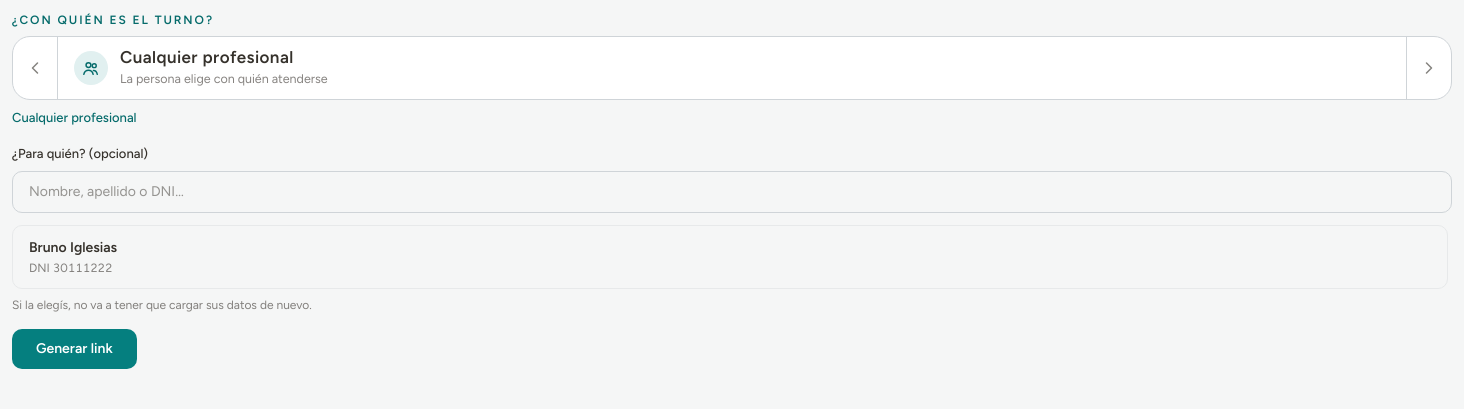
Scenario: CompartirLinkTurno › qué decide el link › recepción puede generar el link de la agenda de un colega
This screenshot has width=1464, height=409.
Click the button with aria-label "Elegir de quién es la vista". click: (91, 68)
box: [57,37,1407,99]
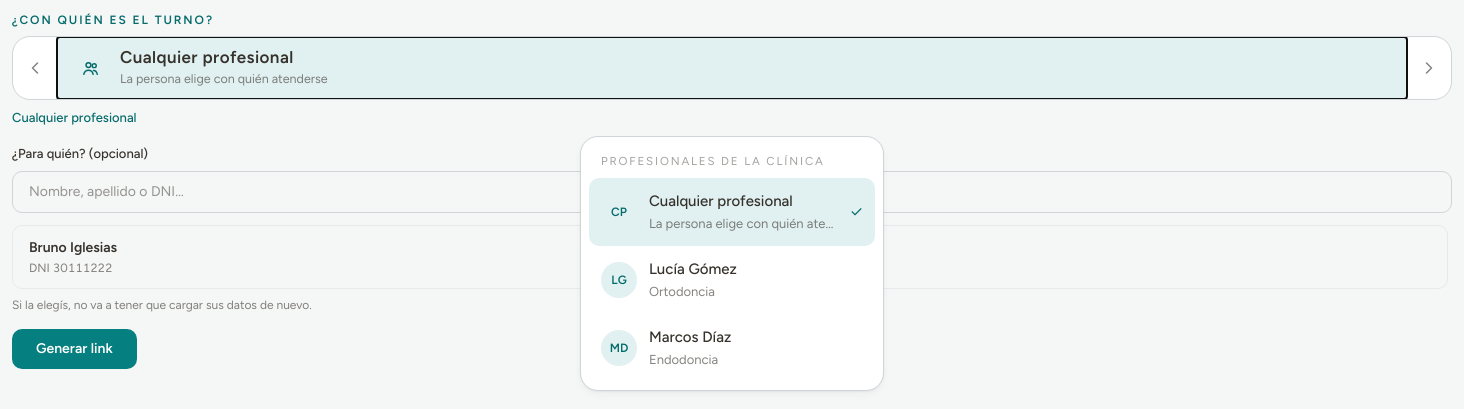
Click the button "MD Marcos Díaz Endodoncia". click: (732, 348)
box: [589,314,875,382]
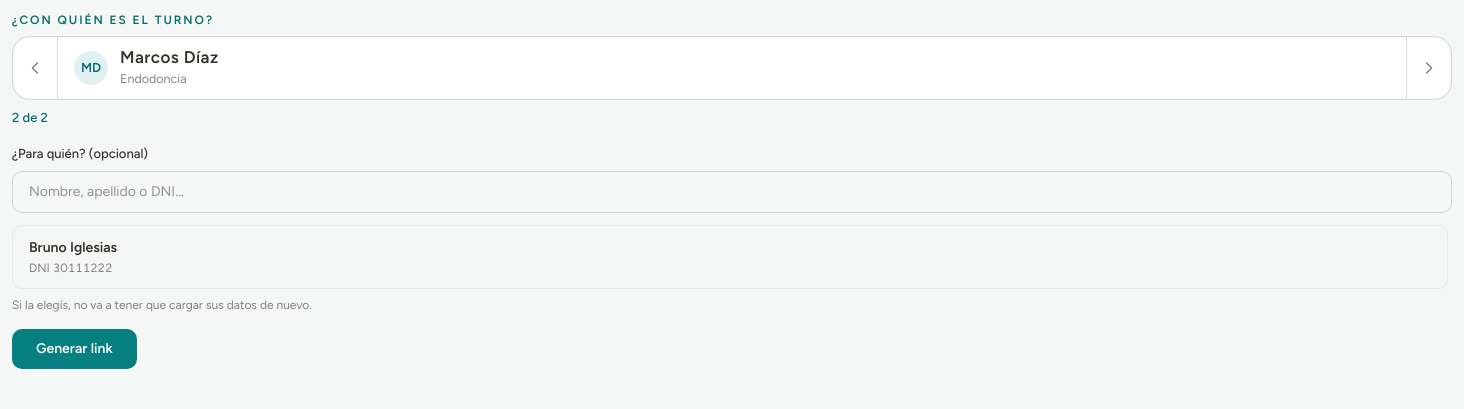
Click the button "Generar link". click: (74, 349)
box: [12,329,137,369]
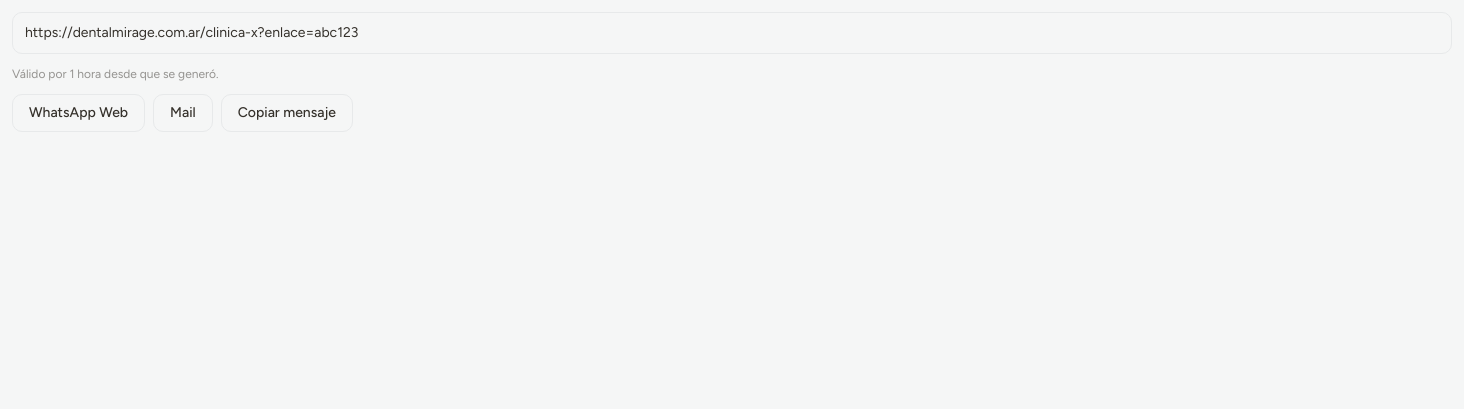
Now the field showing "https://dentalmirage.com.ar/clinica-x?enlace=abc123" is shown, box [12,12,1452,54]
